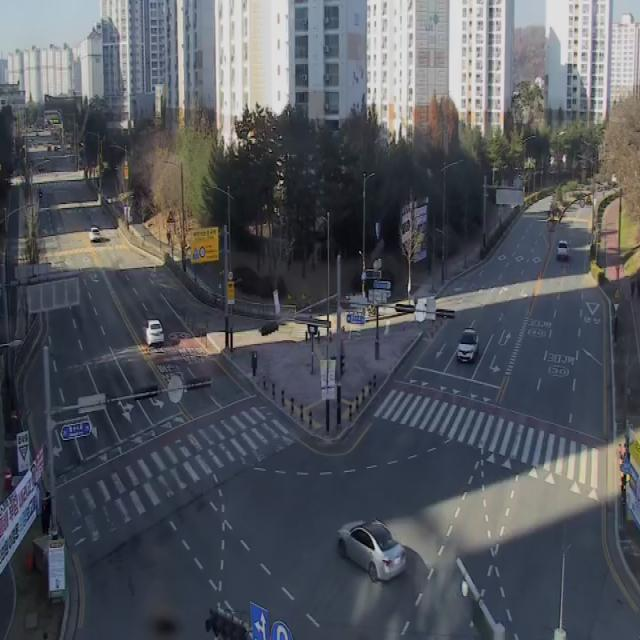Car: (337, 520, 405, 583), (457, 329, 479, 362), (142, 320, 164, 346), (558, 241, 570, 259), (89, 225, 100, 242)
